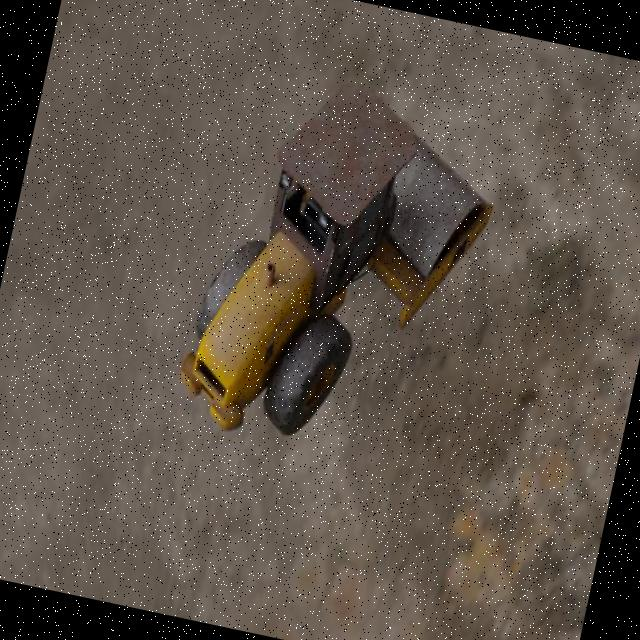Roller: (169, 58, 513, 476)
